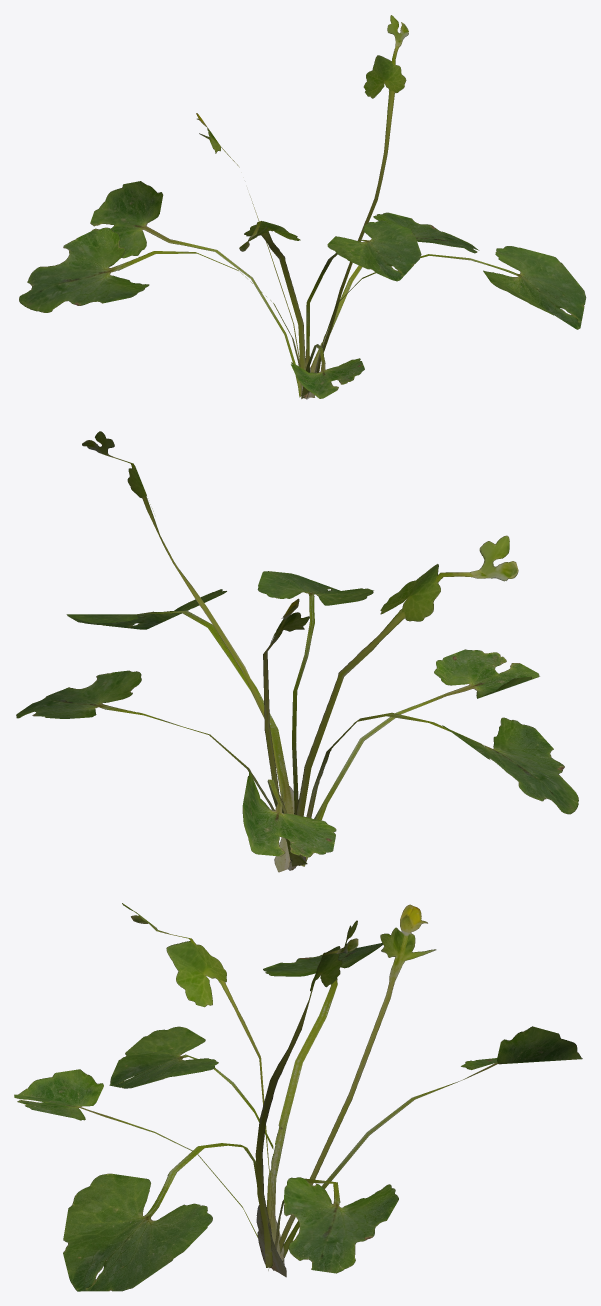
The model's file is celandine_01_a.gltf.
3 views of the same model, one above another, from view 1: azimuth 30°, elevation 25°; view 2: azimuth 150°, elevation 25°; view 3: azimuth 270°, elevation 25° (orthographic). The views are drawn at different scales.
Visible parts, largest first — view 1: celandine_01_a__x; view 2: celandine_01_a__x; view 3: celandine_01_a__x.
Boxes of the visible parts, left/top/right/bottom form: celandine_01_a__x: left=19, top=15, right=586, bottom=399; celandine_01_a__x: left=16, top=431, right=578, bottom=872; celandine_01_a__x: left=14, top=903, right=582, bottom=1291.
Size of the model in its own units: 0.2759 by 0.185 by 0.2254.
1 material, 1 textured.
